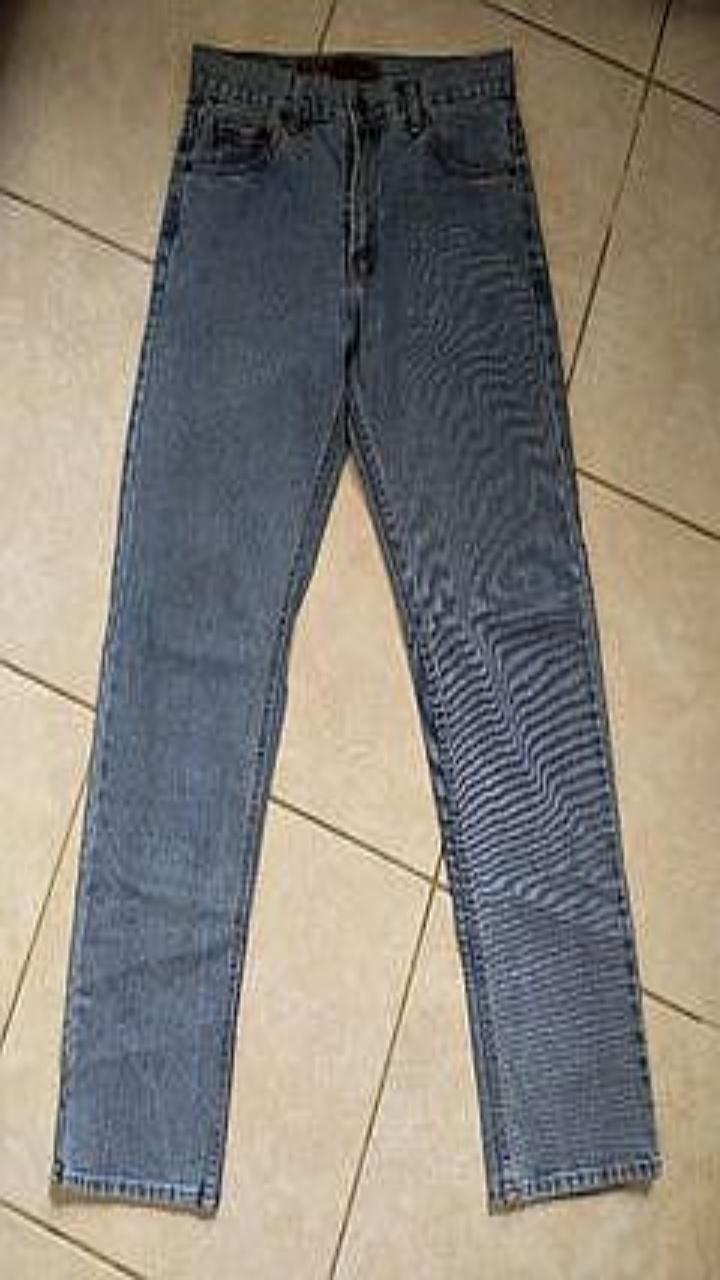Jeans: (51, 45, 661, 1212)
